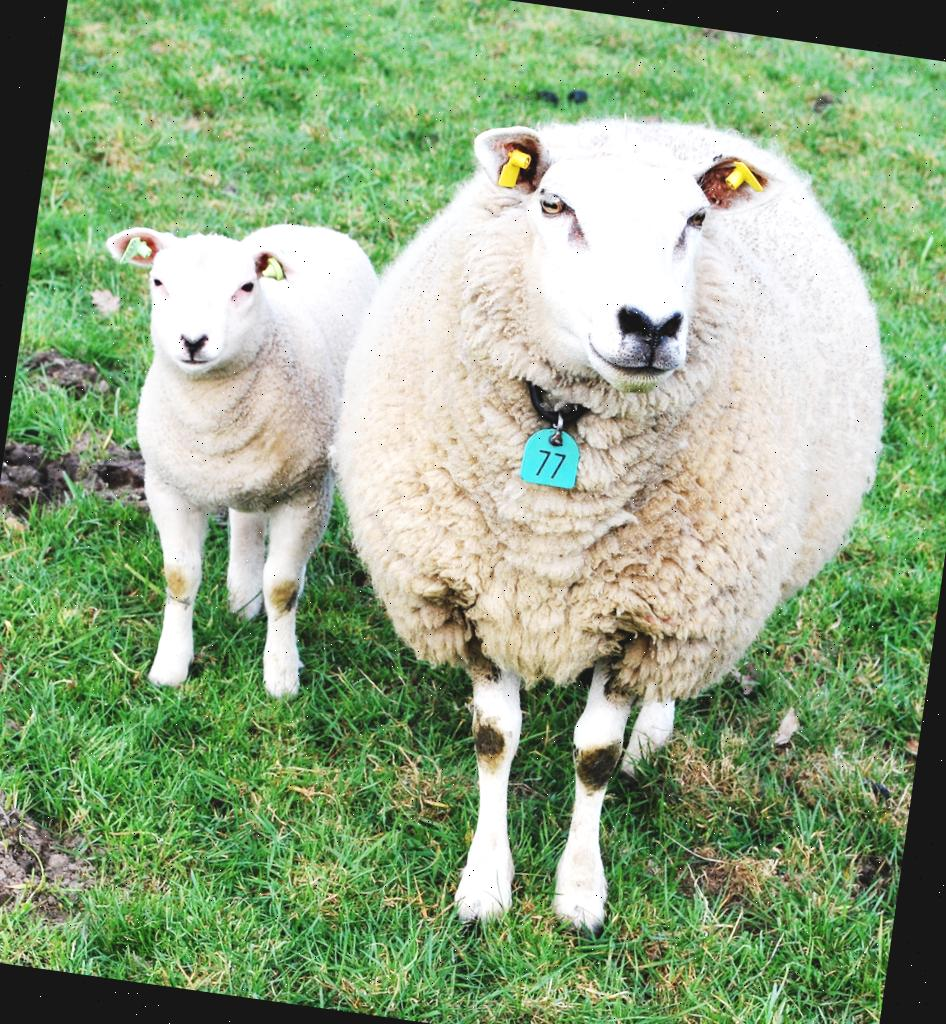Sheep: (263, 80, 922, 962), (43, 194, 391, 712)
